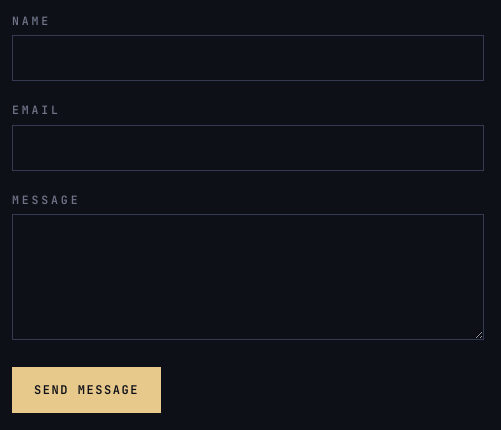
ContactForm › shows an inline error and keeps the form visible when sending fails
Type "Ada Lovelace" into the field labelled "NAME" at [248, 58], box [12, 35, 484, 81]
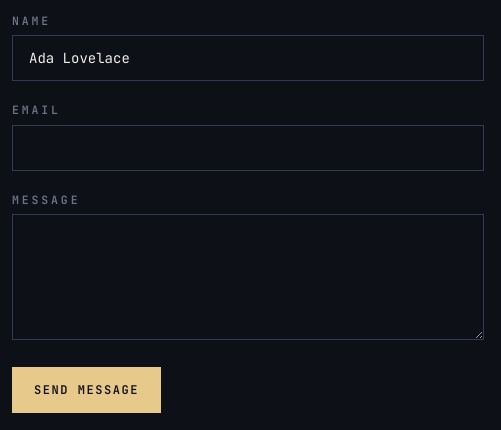
Type "ada@example.com" into the field labelled "EMAIL" at [248, 148], box [12, 124, 484, 170]
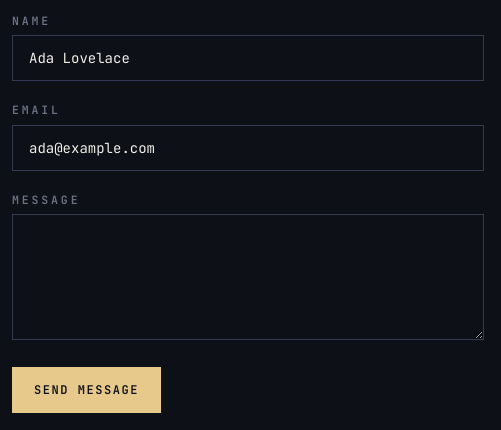
Type "Hello there" into the text box labelled "MESSAGE" at [248, 277], box [12, 214, 484, 340]
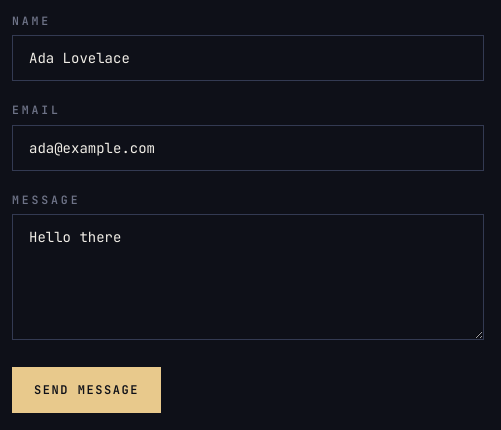
Click the button "SEND MESSAGE" at [87, 390], box [12, 367, 161, 413]
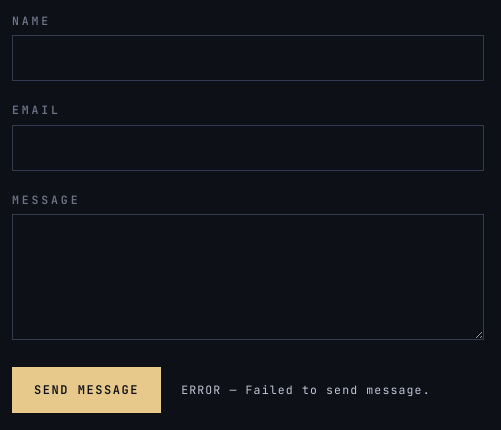
Expected: the field labelled "NAME" is shown, [12, 35, 484, 81]
Now the text "ERROR — Failed to send message." is shown, box [181, 381, 431, 398]
